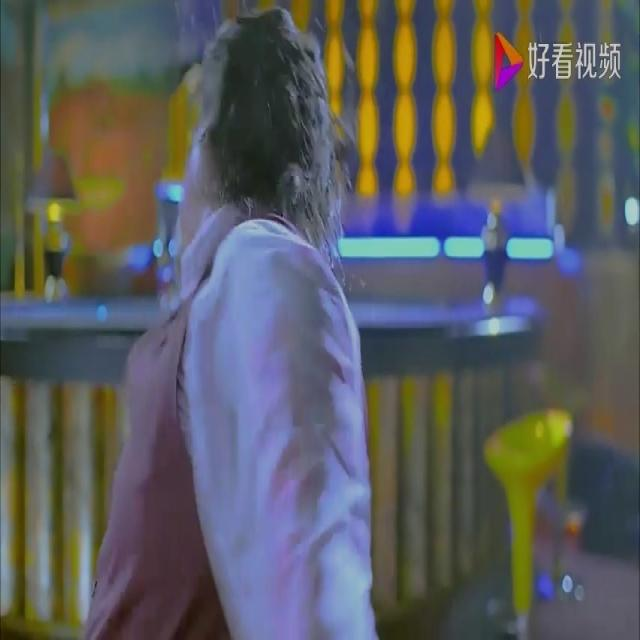non-fight: (81, 7, 382, 640)
